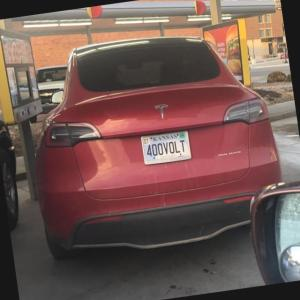Plate: (141, 130, 192, 166)
